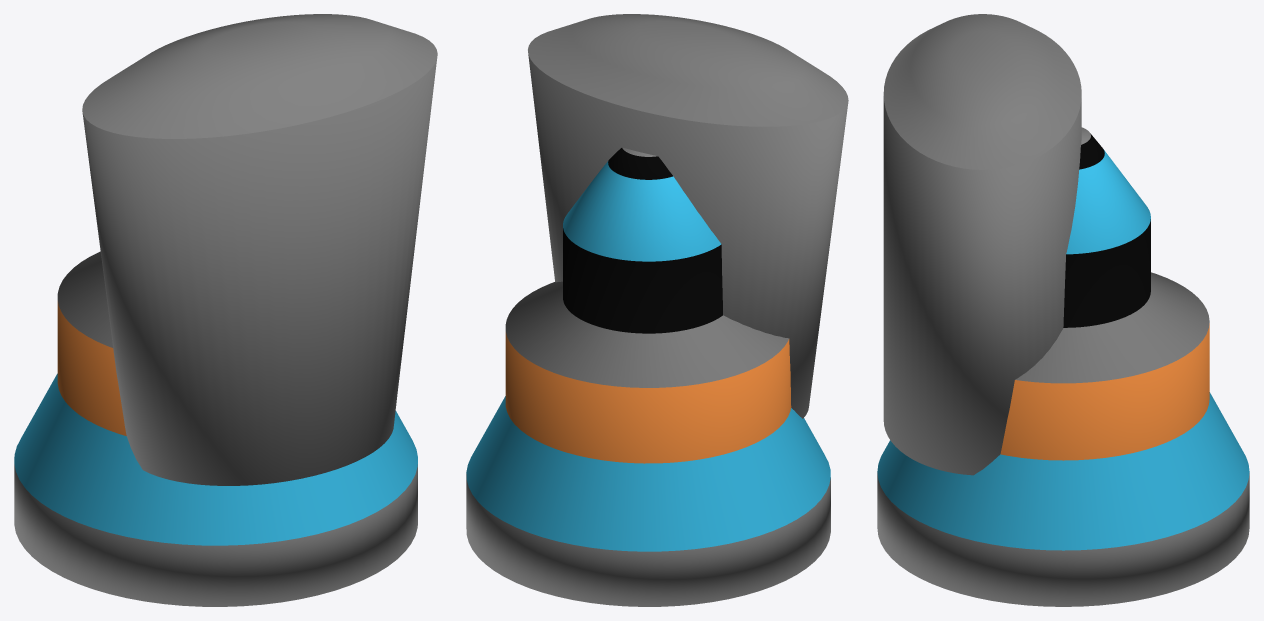
Rendered from Jetpack.fbx.
The picture shows the model from 3 angles, left to right: view 1: azimuth 30°, elevation 25°; view 2: azimuth 150°, elevation 25°; view 3: azimuth 270°, elevation 25°; orthographic projection. The views are drawn at different scales.
Visible parts, largest first — view 1: Jetpack.Main, Jetpack.Thruster; view 2: Jetpack.Thruster, Jetpack.Main; view 3: Jetpack.Thruster, Jetpack.Main.
Boxes of the visible parts, left/top/right/bottom form: Jetpack.Main: left=82, top=14, right=437, bottom=485; Jetpack.Thruster: left=14, top=251, right=417, bottom=606; Jetpack.Thruster: left=466, top=147, right=830, bottom=606; Jetpack.Main: left=528, top=14, right=848, bottom=418; Jetpack.Thruster: left=877, top=127, right=1249, bottom=606; Jetpack.Main: left=883, top=14, right=1081, bottom=475.
Size of the model in its own units: 23.89 by 33.49 by 23.89.
